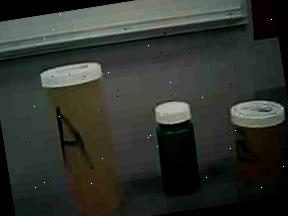Bottle A: (29, 50, 145, 216)
Bottle B: (214, 88, 288, 193)
Bottle C: (144, 93, 214, 205)
